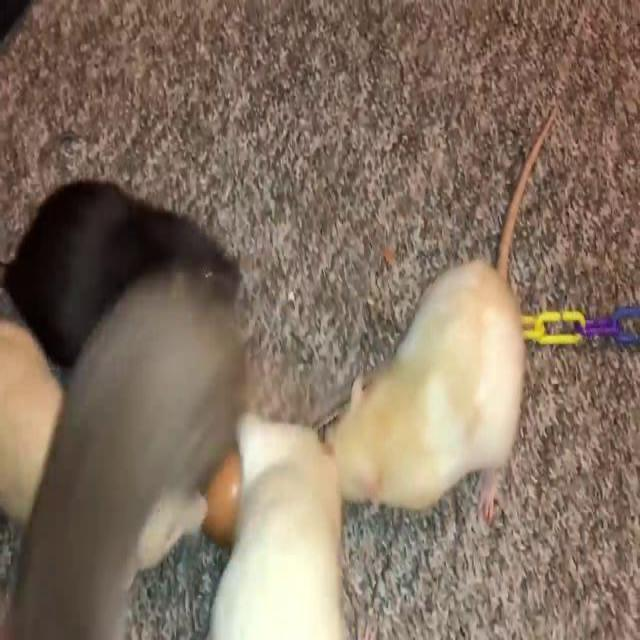rat: (328, 101, 553, 516)
